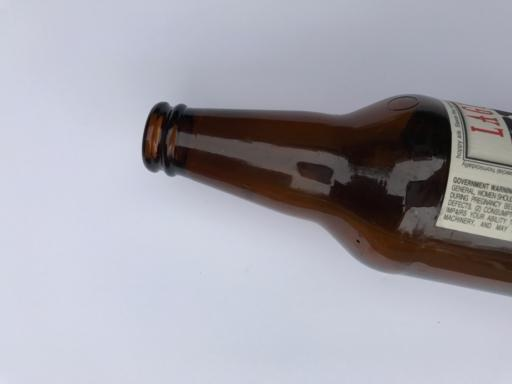botolkaca: (141, 94, 512, 296)
